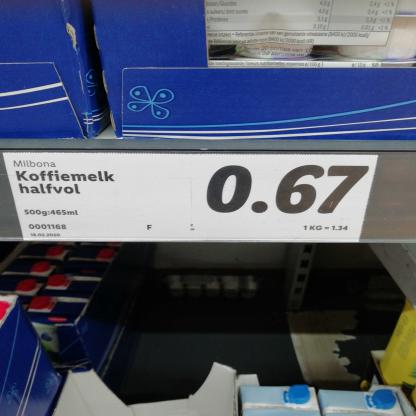prtg: (3, 154, 380, 243)
